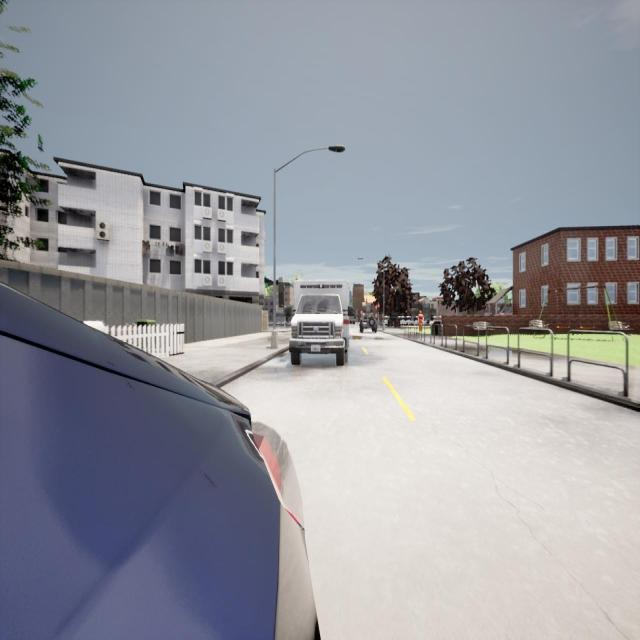Pedestrian: (416, 310, 426, 333)
Vehicle: (0, 284, 316, 638), (284, 278, 355, 366), (359, 314, 377, 334), (349, 316, 355, 324)
traffic_light: (378, 303, 380, 311)
